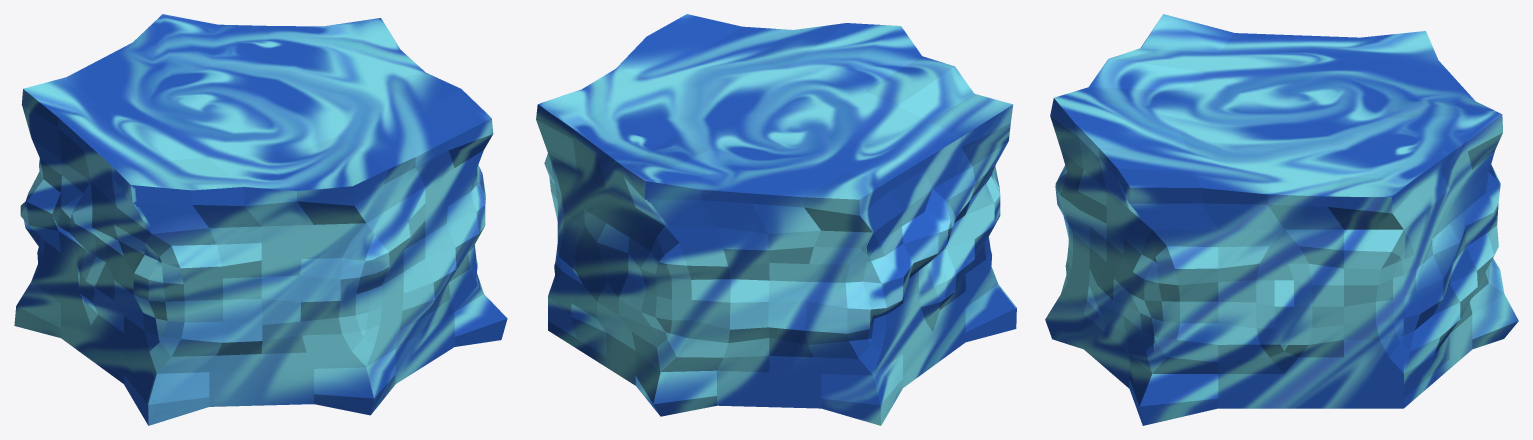
Rendered from tile_water.gltf.
3 views of the same model, side by side, from view 1: azimuth 30°, elevation 25°; view 2: azimuth 150°, elevation 25°; view 3: azimuth 270°, elevation 25° (orthographic).
Visible parts, largest first — view 1: river; view 2: river; view 3: river.
Boxes of the visible parts, x1,y1,x2,y2 form: river: (14,14,507,425); river: (536,14,1016,425); river: (1045,14,1518,425).
Size of the model in its own units: 1.79 by 1.1 by 2.01.
Materials: 1 (1 with a texture image).
